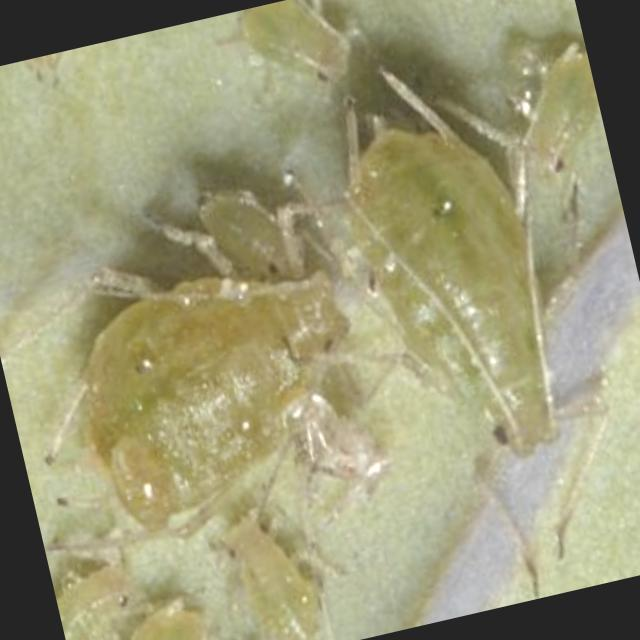Green peach aphid: (269, 53, 640, 545), (0, 160, 406, 580), (157, 128, 352, 328), (477, 0, 617, 205), (186, 491, 367, 640), (200, 0, 397, 130), (65, 584, 242, 640)
